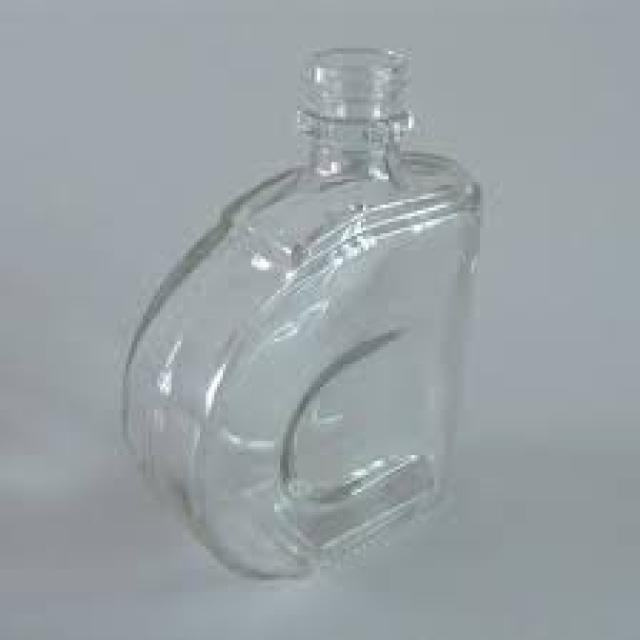glass: (120, 46, 480, 578)
